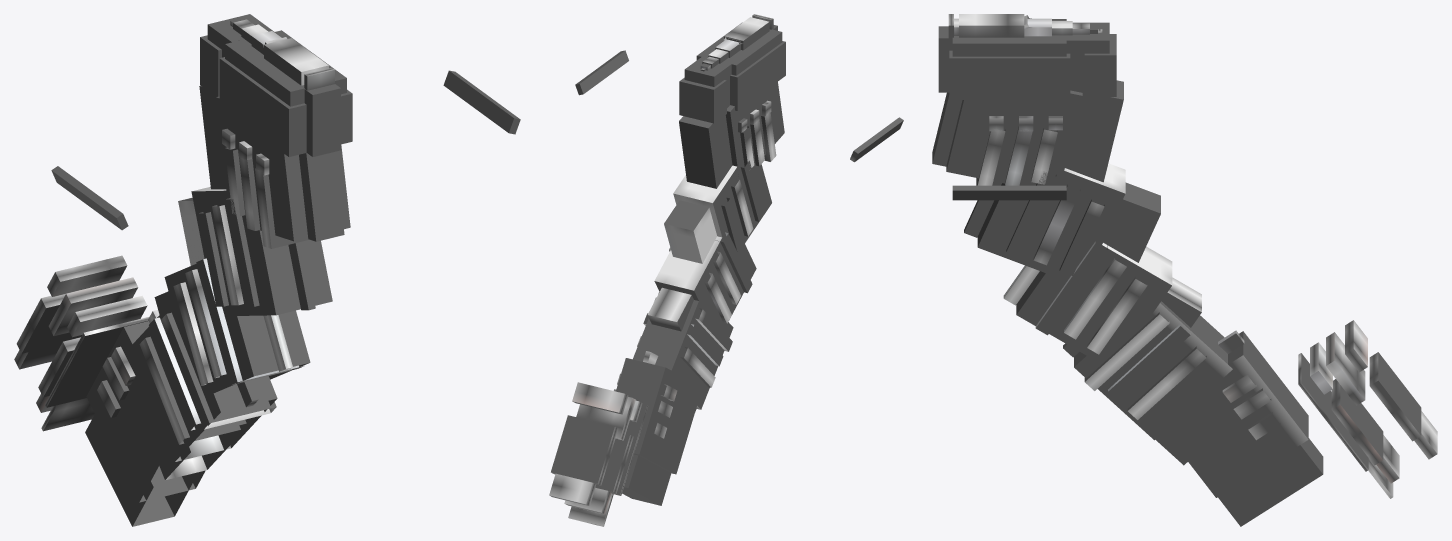
File: ak47_mag_v4.glb
The picture shows the model from 3 angles, left to right: view 1: azimuth 30°, elevation 25°; view 2: azimuth 150°, elevation 25°; view 3: azimuth 270°, elevation 25°; orthographic projection. The views are drawn at different scales.
Parts seen in each view (by area): view 1: mag; view 2: mag; view 3: mag.
Part boxes in pixels (<box>): mag: <box>14,14,520,526</box>; mag: <box>549,14,903,526</box>; mag: <box>932,14,1437,526</box>.
Bounding box in the file's own units: 0.1644 × 0.2223 × 0.2042.
1 material, 1 textured.
